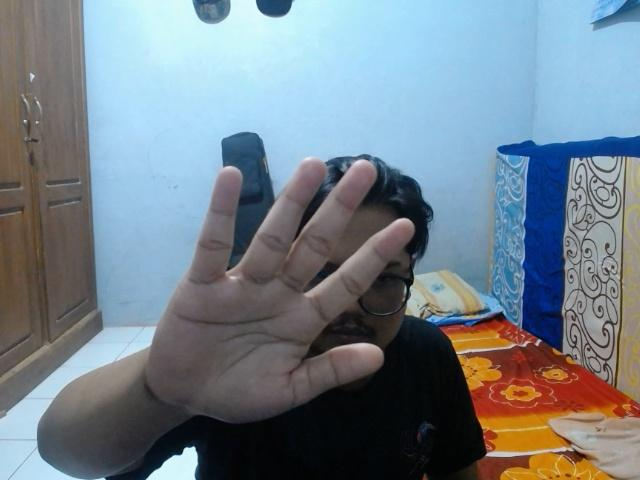Release: (138, 151, 419, 431)
